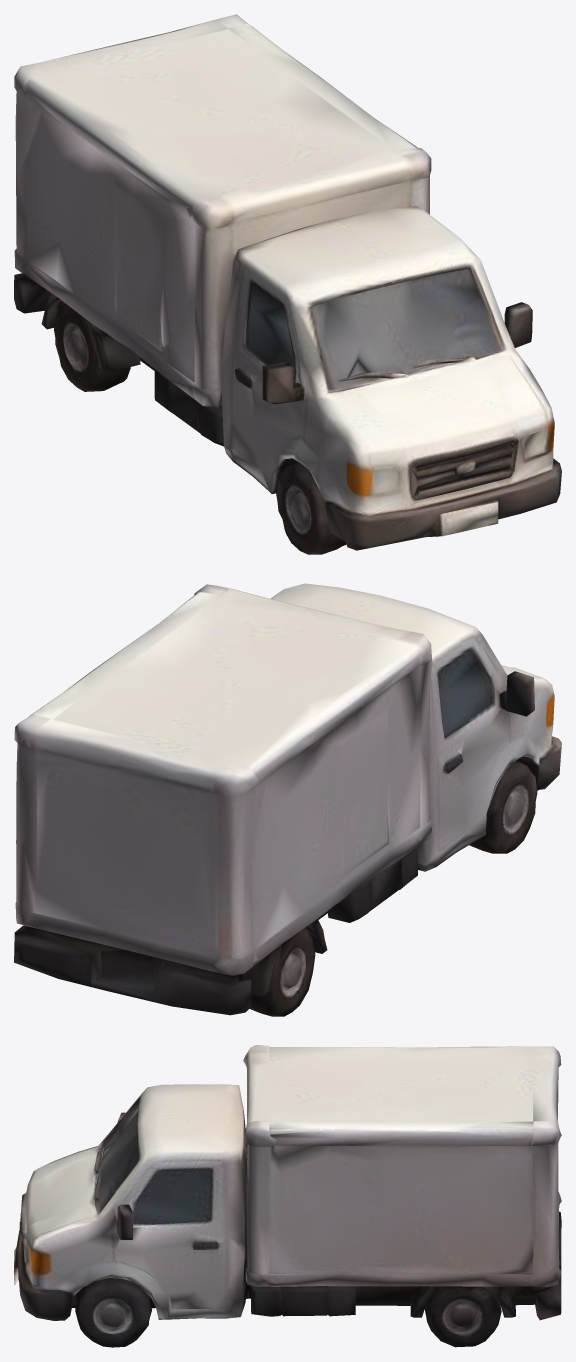
File: van.glb
3 renders of one model, top to bottom at view 1: azimuth 30°, elevation 25°; view 2: azimuth 150°, elevation 25°; view 3: azimuth 270°, elevation 25°, orthographic. The views are drawn at different scales.
Visible parts, largest first — view 1: body; view 2: body; view 3: body.
Part boxes in pixels (bbox=[...]): body: bbox=[14, 14, 561, 554]; body: bbox=[14, 583, 561, 1016]; body: bbox=[14, 1045, 561, 1347].
Bounding box in the file's own units: 1.8 × 1.82 × 4.1.
Materials: 1 (1 with a texture image).
